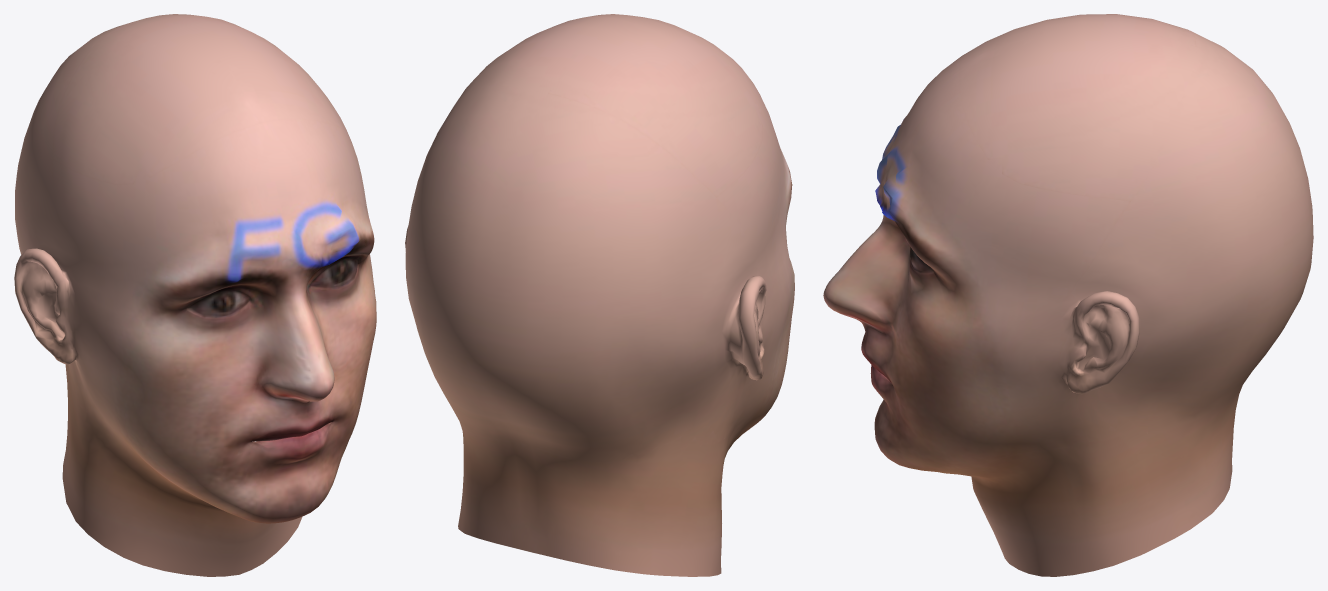
Rendered from MaleFaced16.obj.
3 views of the same model, side by side, from view 1: azimuth 30°, elevation 25°; view 2: azimuth 150°, elevation 25°; view 3: azimuth 270°, elevation 25° (orthographic). The views are drawn at different scales.
Parts seen in each view (by area): view 1: HeadHires; view 2: HeadHires; view 3: HeadHires.
Boxes of the visible parts, box(x1,y1,x2,y2) form: HeadHires: box(14, 14, 376, 576); HeadHires: box(405, 14, 794, 576); HeadHires: box(823, 14, 1313, 576).
Bounding box in the file's own units: 189 × 283 × 240.
